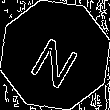N_NE: (25, 23, 85, 87)
